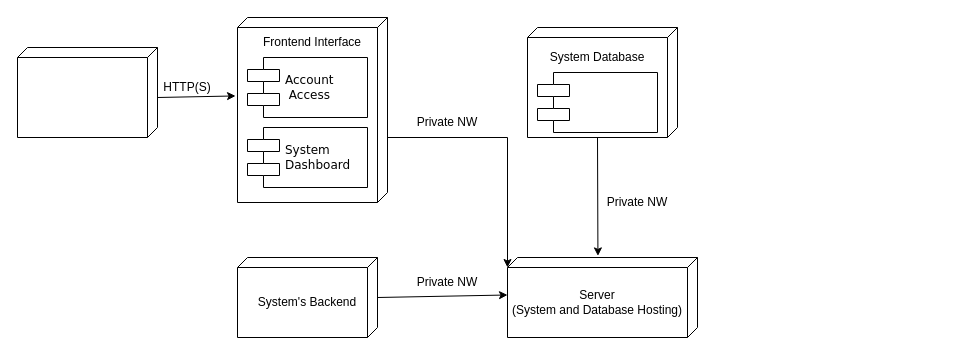
This 960x355 diagram has some shape labels left out. Here are the shapes that lost their labels. From the top down, the centre of each, then its label:
At point 87,92: "User's Device (Farmer/Buyer)".
At point 597,102: "Product Record".
